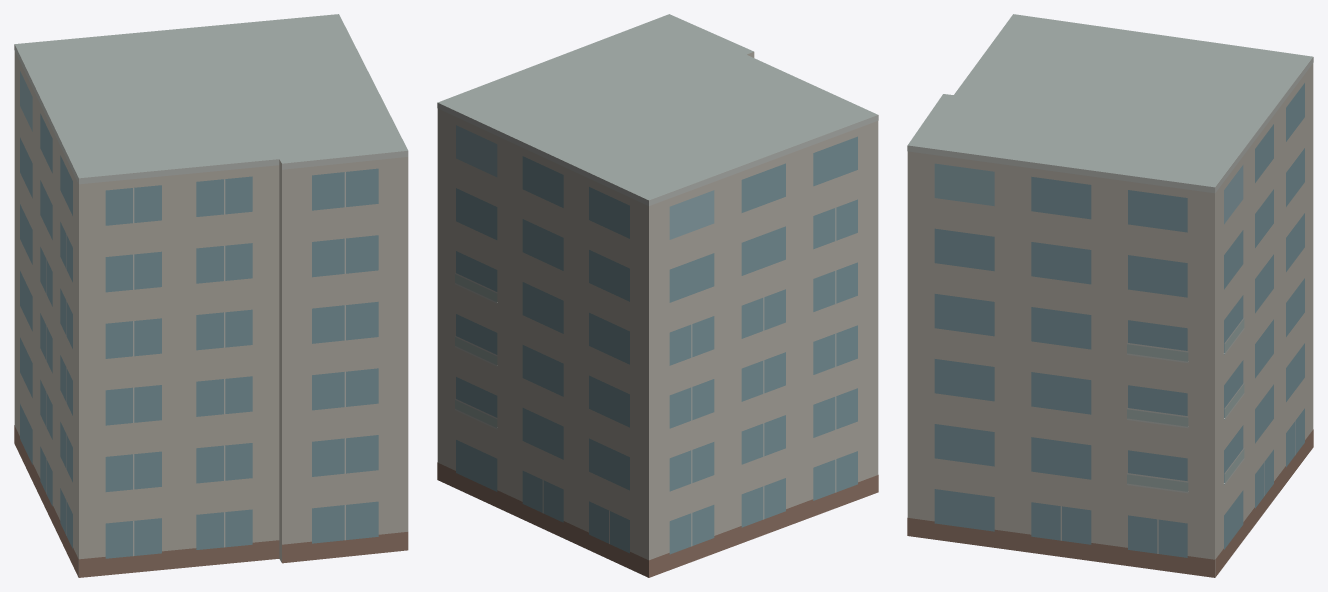
The model's file is survey-upis-32967934.glb.
The picture shows the model from 3 angles, left to right: view 1: azimuth 30°, elevation 25°; view 2: azimuth 150°, elevation 25°; view 3: azimuth 270°, elevation 25°; orthographic projection. The views are drawn at different scales.
Visible parts, largest first — view 1: survey-upis-32967934.tmp; view 2: survey-upis-32967934.tmp; view 3: survey-upis-32967934.tmp.
Part boxes in pixels (<box>): survey-upis-32967934.tmp: <box>14,14,408,577</box>; survey-upis-32967934.tmp: <box>437,14,878,577</box>; survey-upis-32967934.tmp: <box>907,14,1313,577</box>.
Size of the model in its own units: 15.34 by 16.1 by 15.18.
